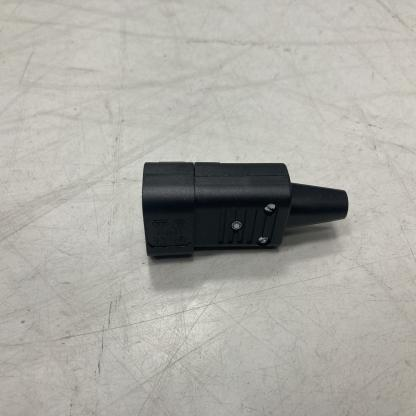SP0000004: (100, 86, 378, 308)
